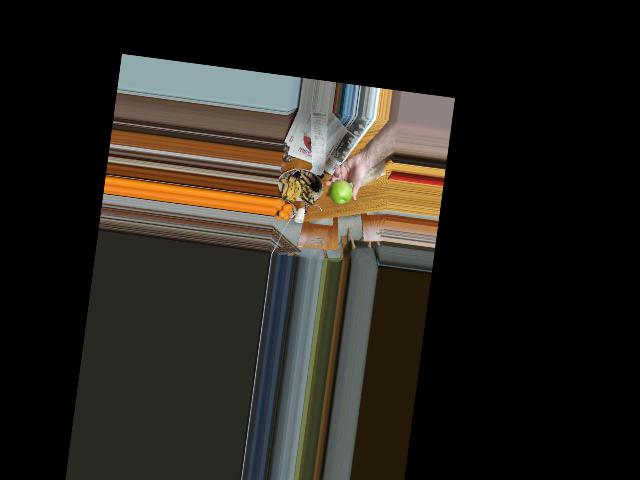apple: (328, 177, 354, 204)
